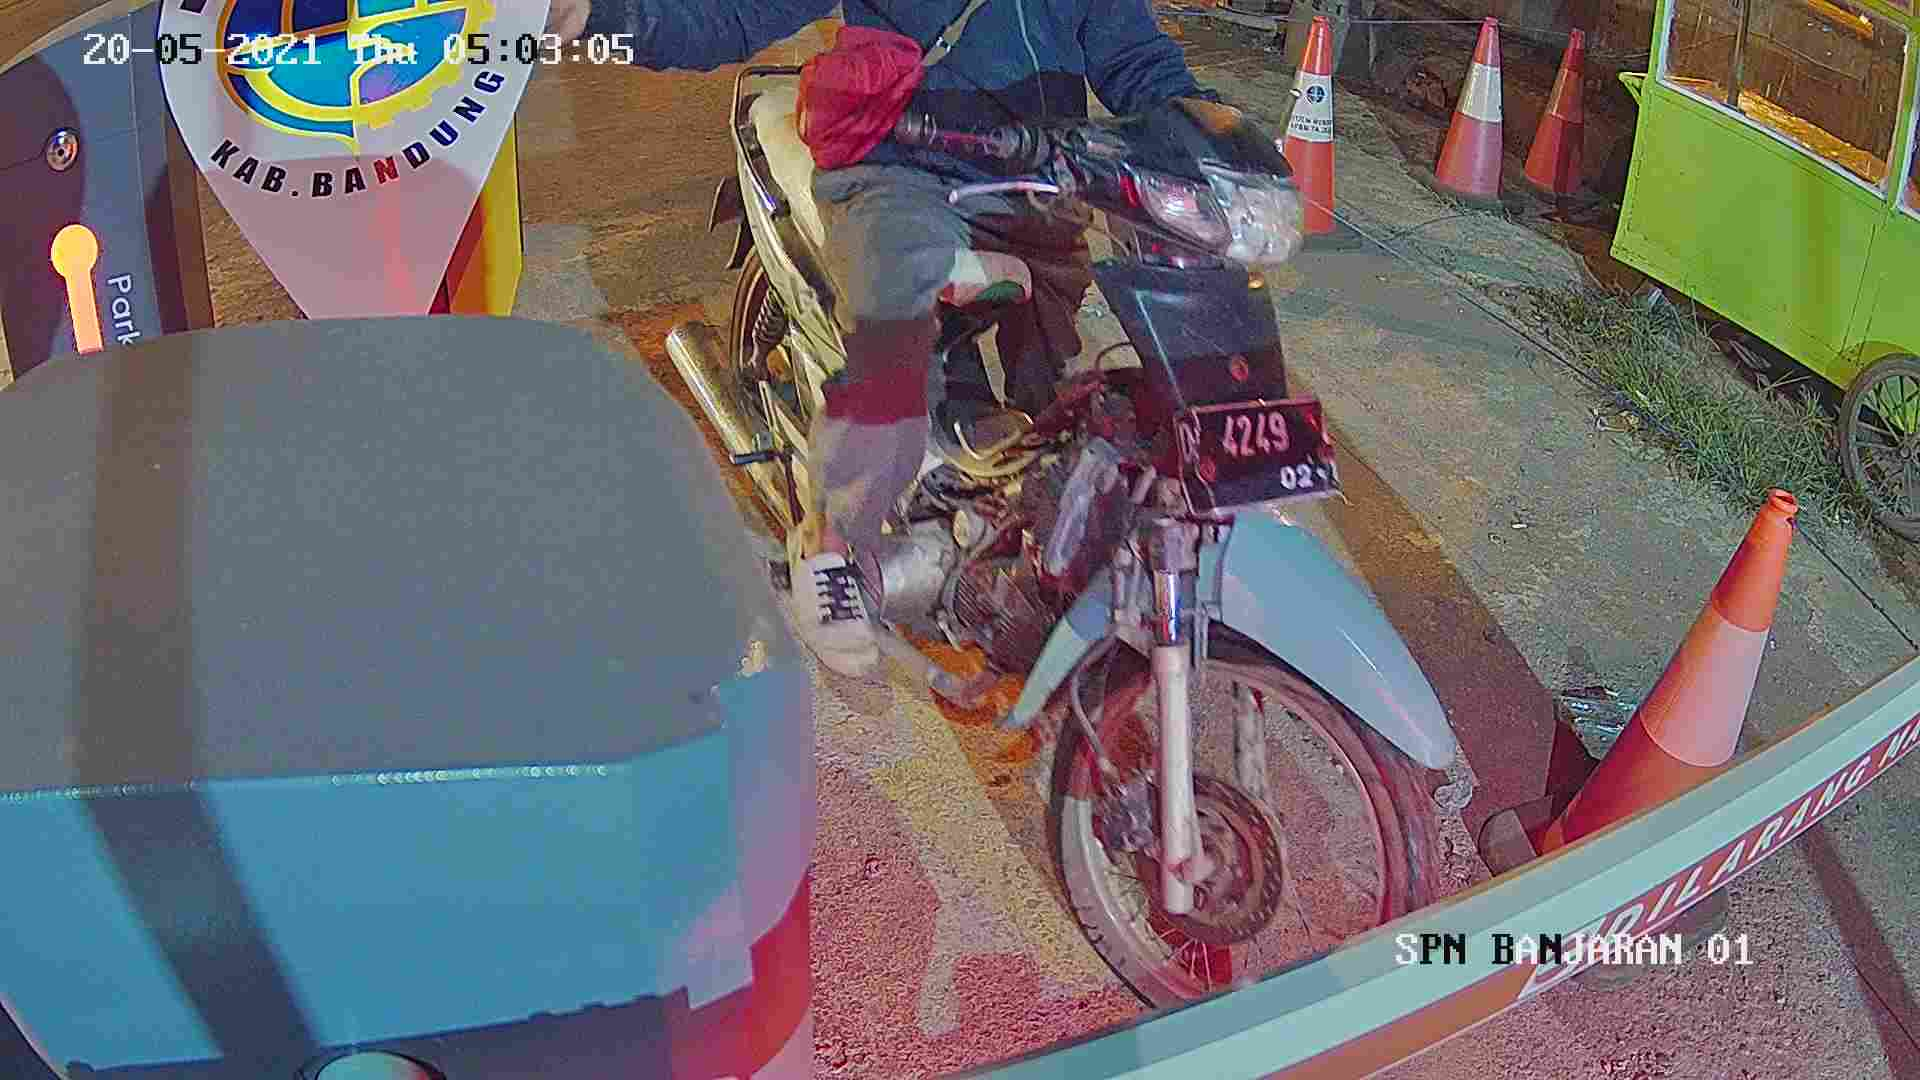motor: (653, 80, 1545, 1015)
